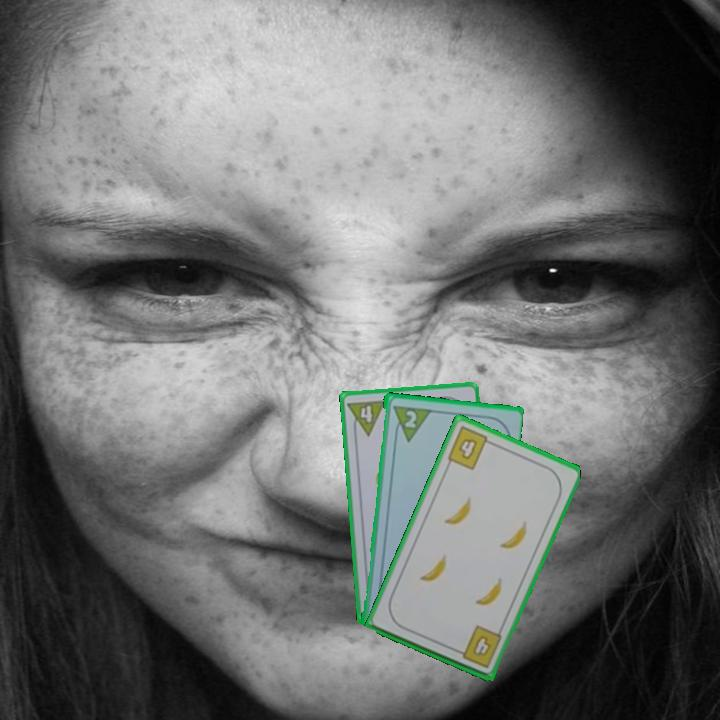2p: (401, 406, 419, 431)
4b: (443, 423, 497, 473), (452, 622, 505, 671)
4p: (344, 396, 389, 439)
